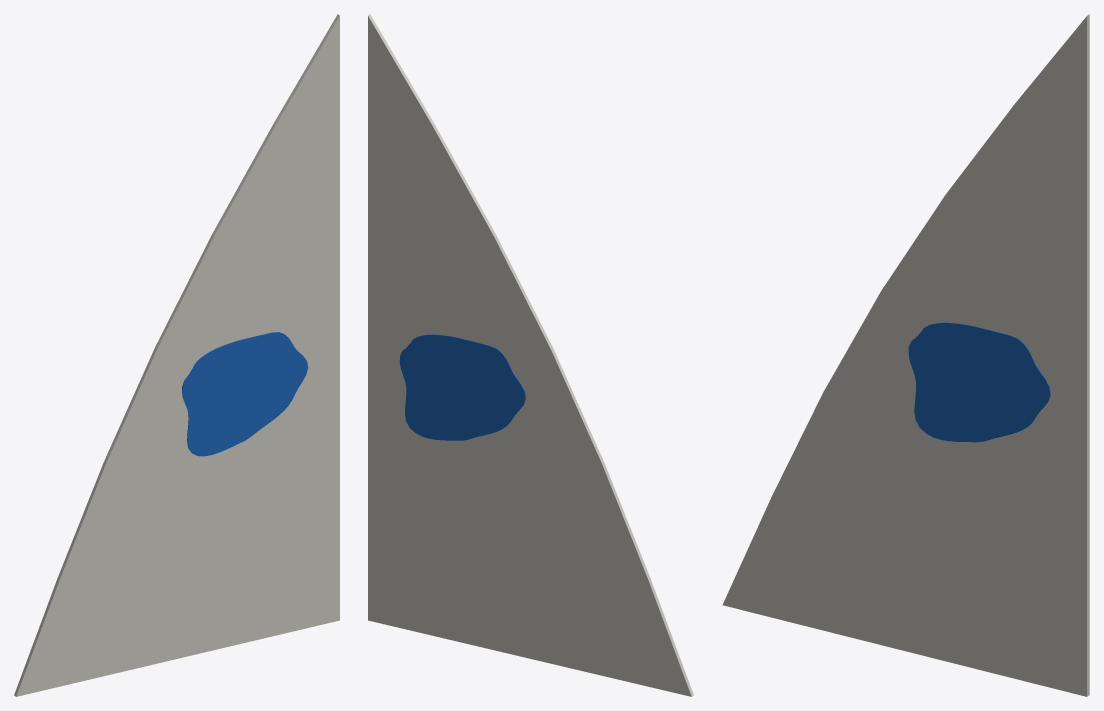
Rendered from tf-boatsail-p3.glb.
3 renders of one model, left to right at view 1: azimuth 30°, elevation 25°; view 2: azimuth 150°, elevation 25°; view 3: azimuth 330°, elevation 25°, orthographic. The views are drawn at different scales.
Visible parts, largest first — view 1: tf-boatsail-p3; view 2: tf-boatsail-p3; view 3: tf-boatsail-p3.
Boxes of the visible parts, bbox=[...] form: tf-boatsail-p3: bbox=[14, 14, 339, 696]; tf-boatsail-p3: bbox=[368, 14, 693, 696]; tf-boatsail-p3: bbox=[722, 14, 1089, 696].
Bounding box in the file's own units: 6.75 × 12.05 × 0.1103.
